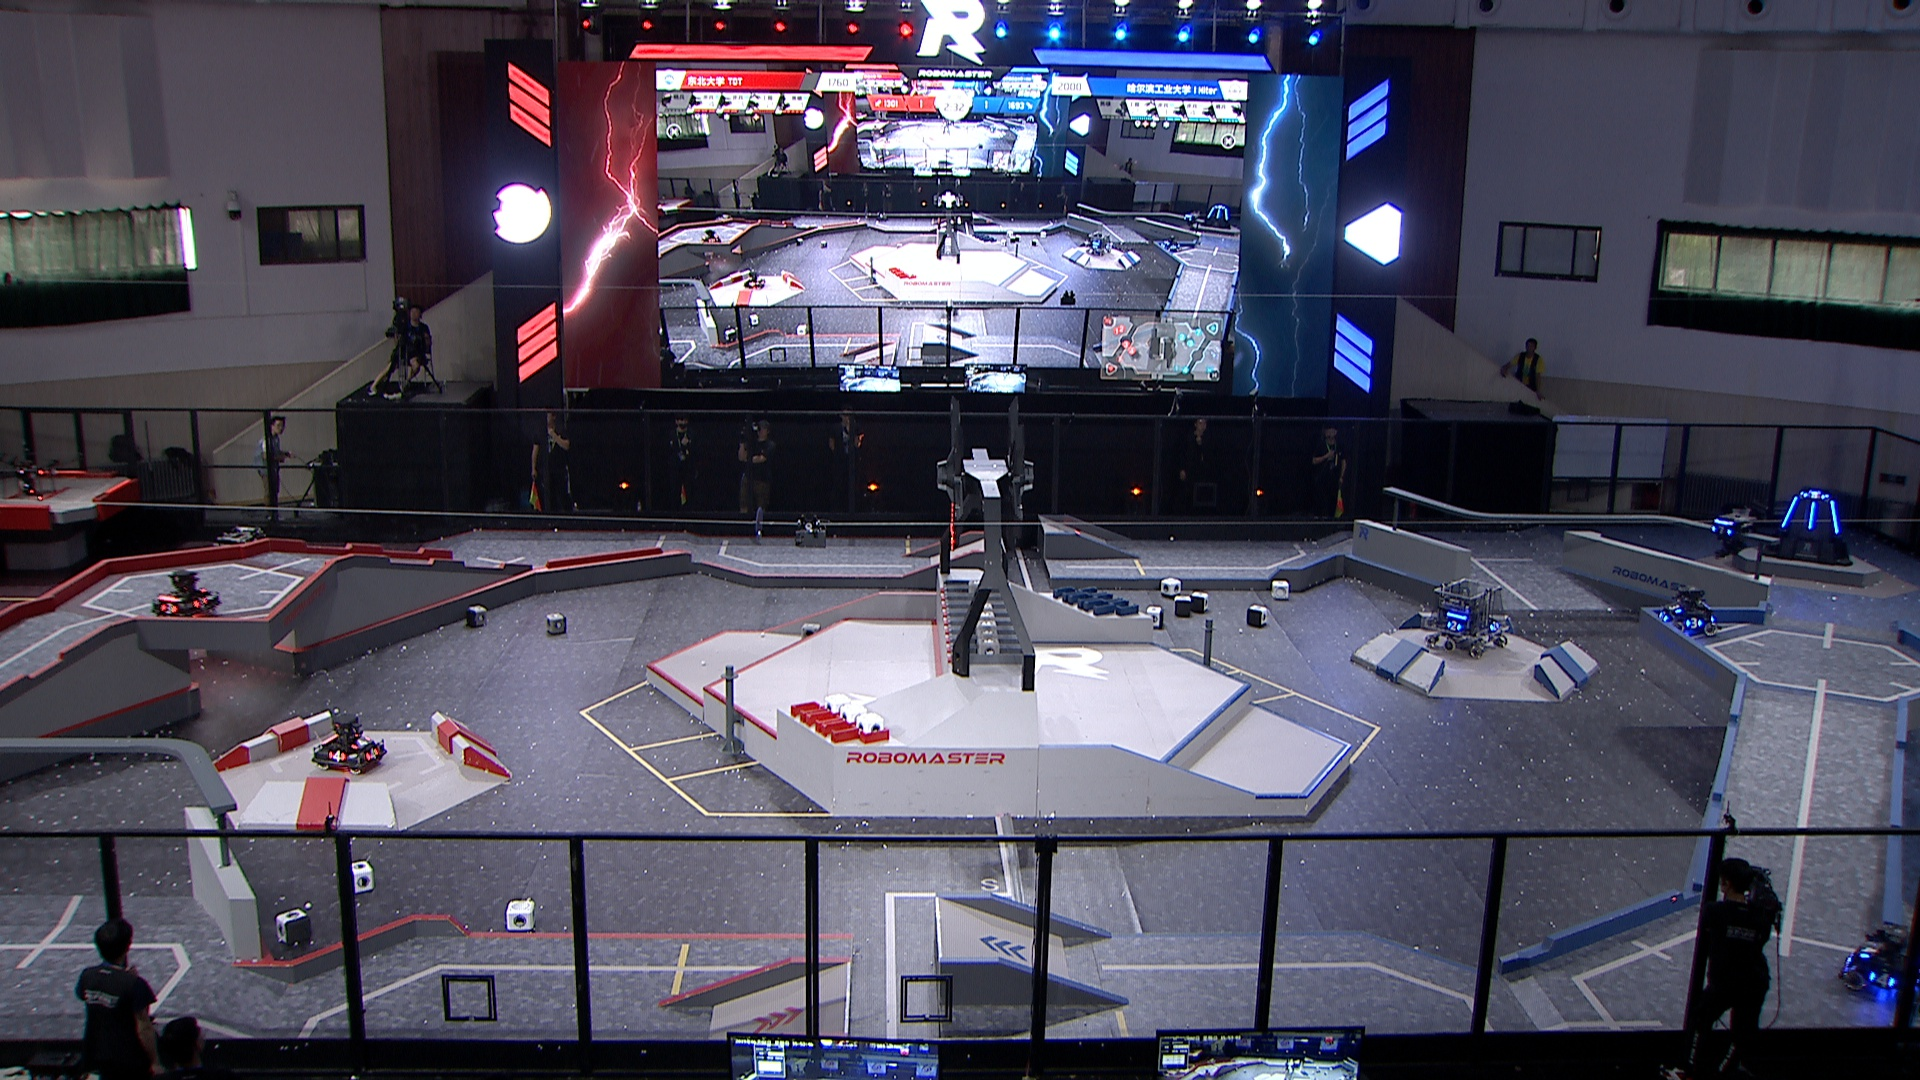armor: (1778, 493, 1801, 529), (1869, 968, 1898, 989), (1825, 498, 1841, 537), (1803, 498, 1820, 531), (1709, 520, 1735, 538), (348, 735, 373, 752), (1855, 943, 1876, 963), (158, 597, 178, 617), (324, 750, 348, 765), (1665, 599, 1684, 616), (1685, 615, 1702, 632), (191, 593, 210, 609), (363, 746, 381, 761), (1655, 607, 1671, 622), (1487, 617, 1503, 632), (1444, 618, 1461, 632), (1803, 491, 1826, 500)
base: (1762, 485, 1858, 571)
car: (1423, 571, 1513, 659), (1840, 916, 1920, 1000), (200, 520, 281, 597), (311, 712, 392, 778), (149, 564, 228, 621), (1652, 585, 1724, 641)
ignore: (1200, 200, 1232, 229), (1081, 229, 1114, 256), (740, 268, 767, 289), (1159, 232, 1182, 253), (699, 228, 724, 247)
watcher: (1704, 502, 1760, 560)
